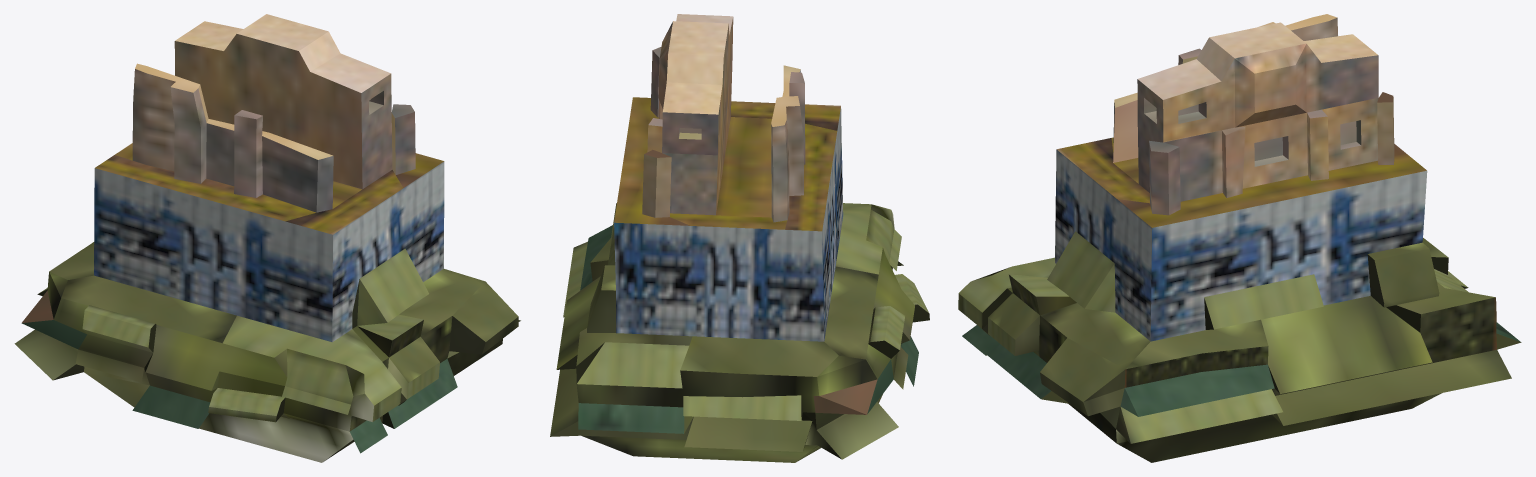
The model's file is Barracks7.fbx.
3 renders of one model, left to right at view 1: azimuth 30°, elevation 25°; view 2: azimuth 150°, elevation 25°; view 3: azimuth 270°, elevation 25°, orthographic. The views are drawn at different scales.
Visible parts, largest first — view 1: Cube_010.004; view 2: Cube_010.004; view 3: Cube_010.004.
Part boxes in pixels (left/top/right/bottom): Cube_010.004: left=14, top=14, right=520, bottom=462; Cube_010.004: left=550, top=14, right=929, bottom=462; Cube_010.004: left=958, top=14, right=1521, bottom=462.
Size of the model in its own units: 35.89 by 30.74 by 41.7.
